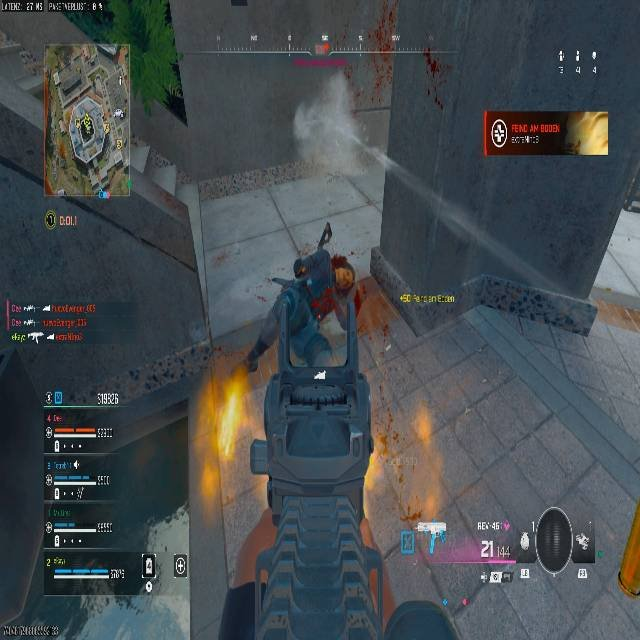head: (292, 245, 331, 287)
player: (241, 229, 368, 638)
